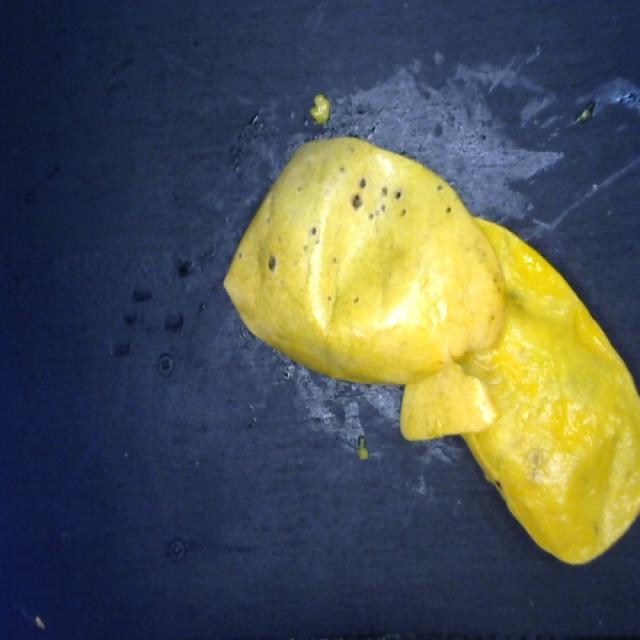biodegradable: (215, 131, 640, 572)
